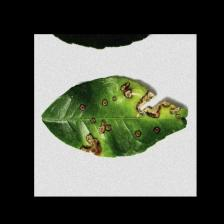canker: (71, 80, 185, 158)
